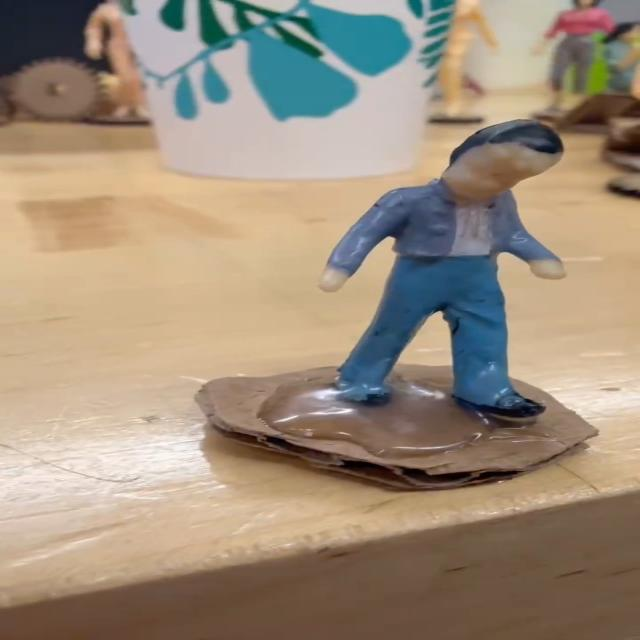Authorized: (284, 75, 610, 432)
